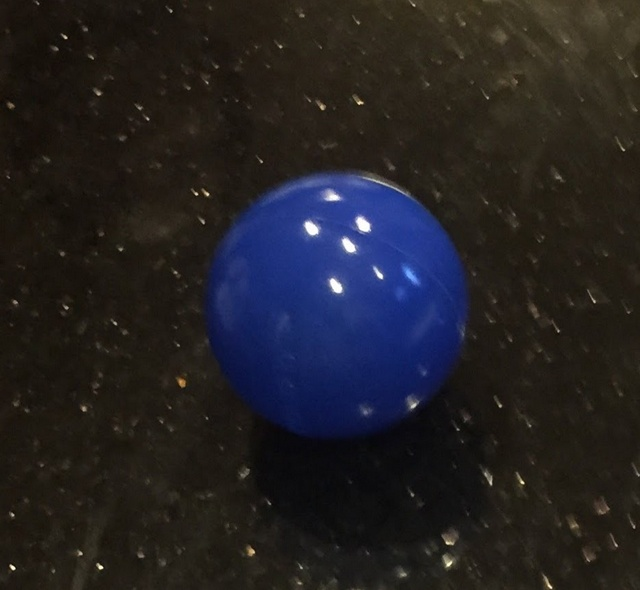ball: (200, 169, 467, 442)
